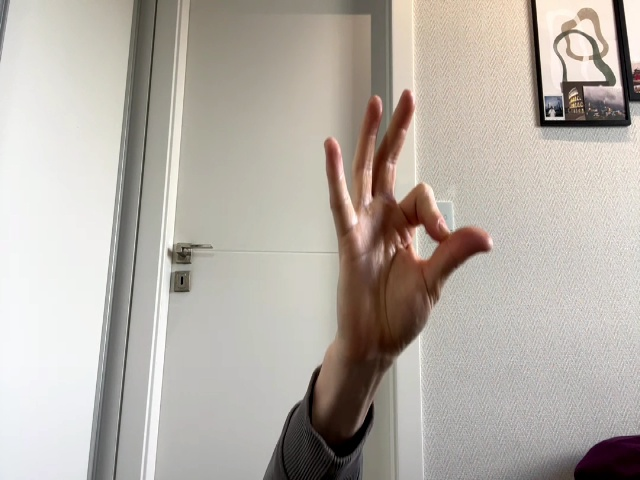S: (324, 90, 493, 357)
